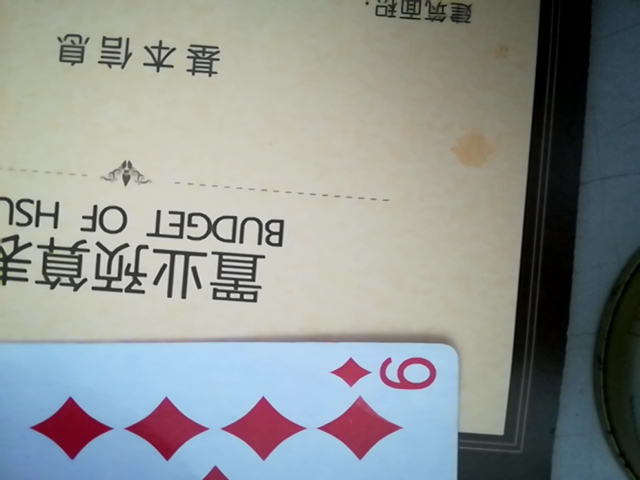fk 9: (0, 337, 479, 480)
